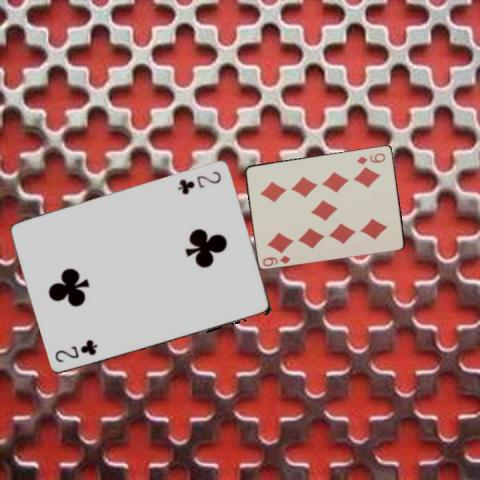2c: (175, 167, 223, 196), (52, 340, 99, 363)
9d: (353, 150, 387, 165), (259, 253, 292, 267)
